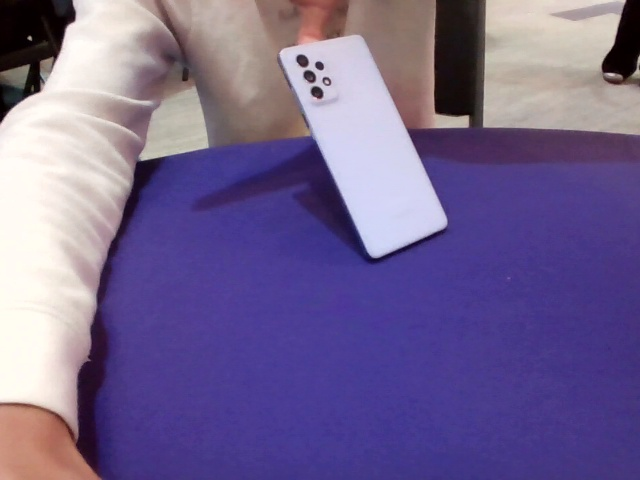celular: (277, 33, 447, 258)
